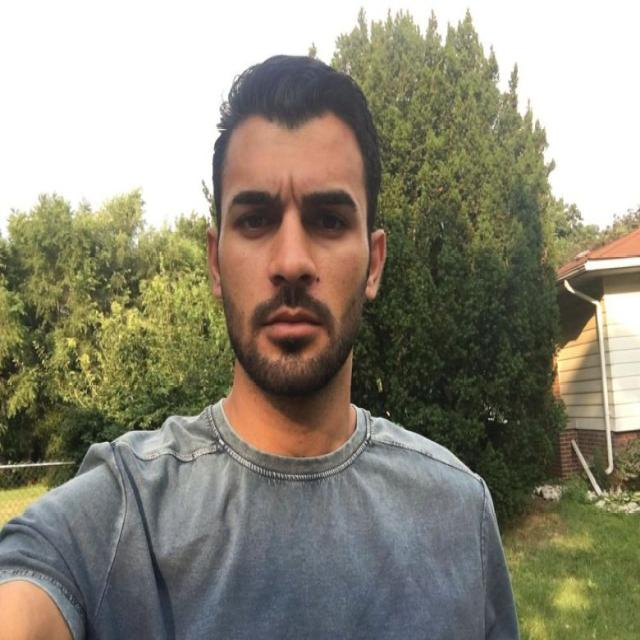mobile_phonerotation: (1, 51, 522, 638)
